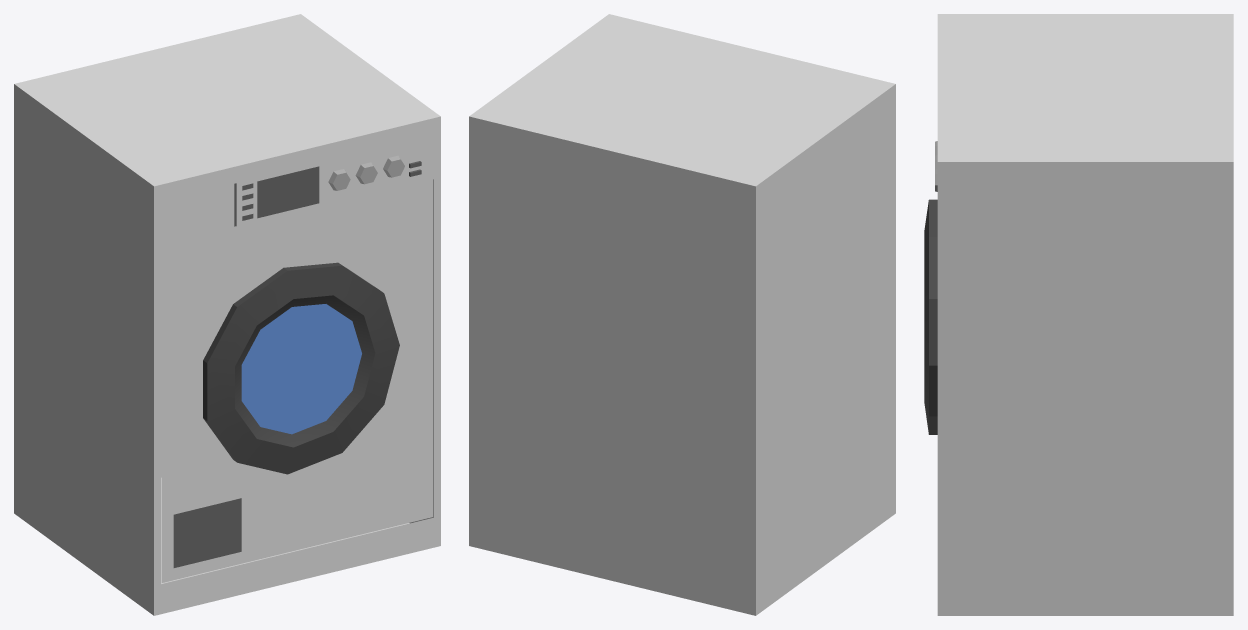
Rendered from Lavadora.fbx.
3 renders of one model, left to right at view 1: azimuth 30°, elevation 25°; view 2: azimuth 150°, elevation 25°; view 3: azimuth 270°, elevation 25°, orthographic. The views are drawn at different scales.
Visible parts, largest first — view 1: Lavadora; view 2: Lavadora; view 3: Lavadora.
Part boxes in pixels (x1,y1,x2,y2): Lavadora: [14, 14, 440, 615]; Lavadora: [469, 14, 895, 615]; Lavadora: [924, 14, 1233, 615].
Size of the model in its own units: 0.419 by 0.5997 by 0.3702.
